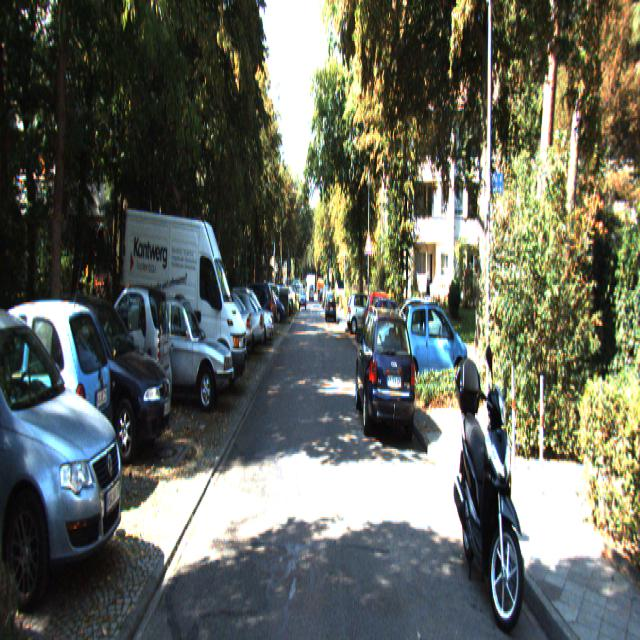Car: (0, 286, 129, 603), (13, 288, 175, 465), (121, 207, 249, 406), (0, 288, 116, 500), (449, 340, 529, 638), (121, 297, 236, 422), (91, 285, 172, 439), (355, 309, 417, 445), (400, 298, 469, 392), (325, 294, 337, 322)
